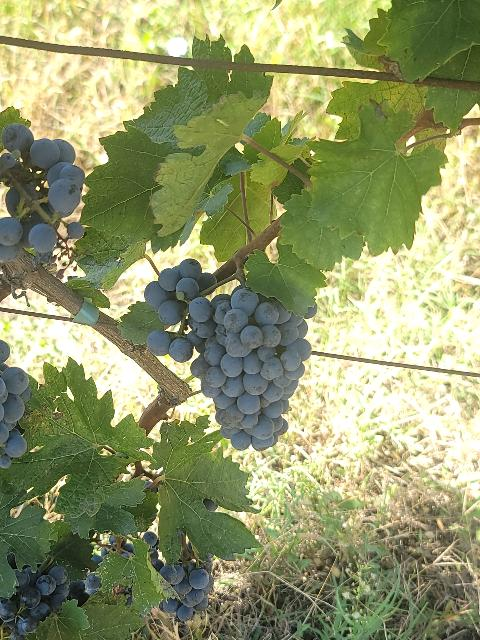grapes: (145, 259, 311, 451)
